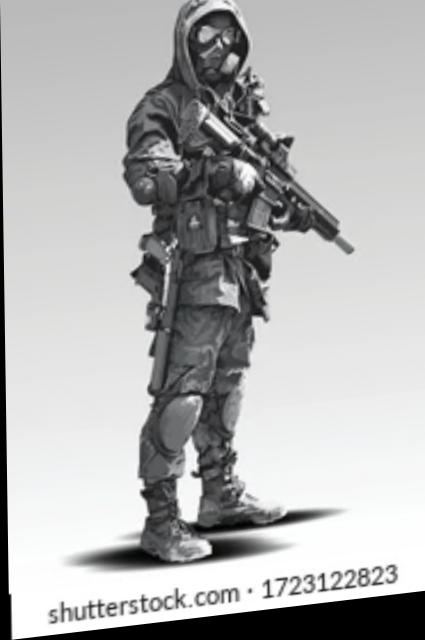other: (106, 0, 296, 571)
